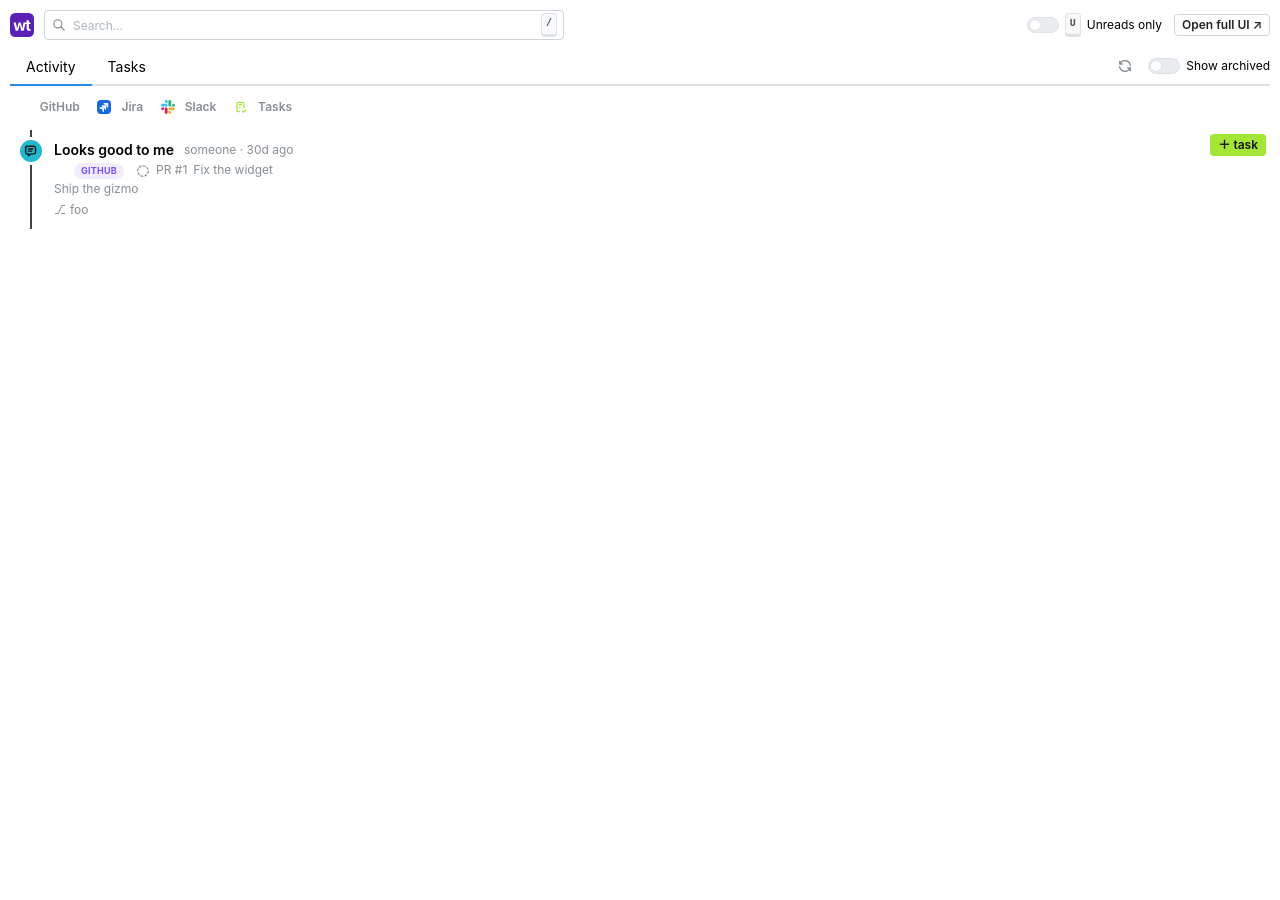
MiniPage › clicking an event opens its details in place
The width and height of the screenshot is (1280, 900).
Click the text "Looks good to me" at point(114, 150), box [54,140,174,160]
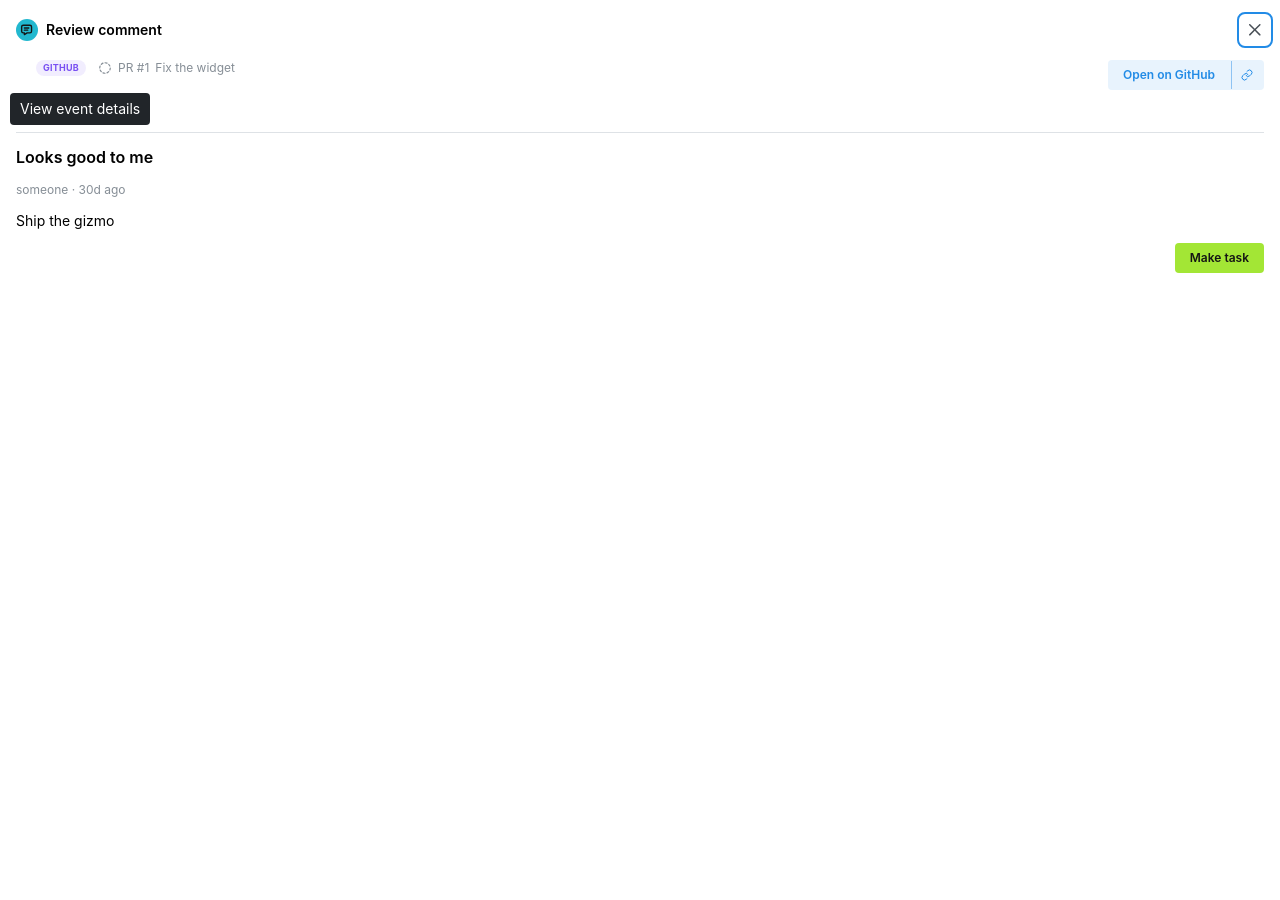
Result: the text "Ship the gizmo" is shown at [16,212,114,229]
